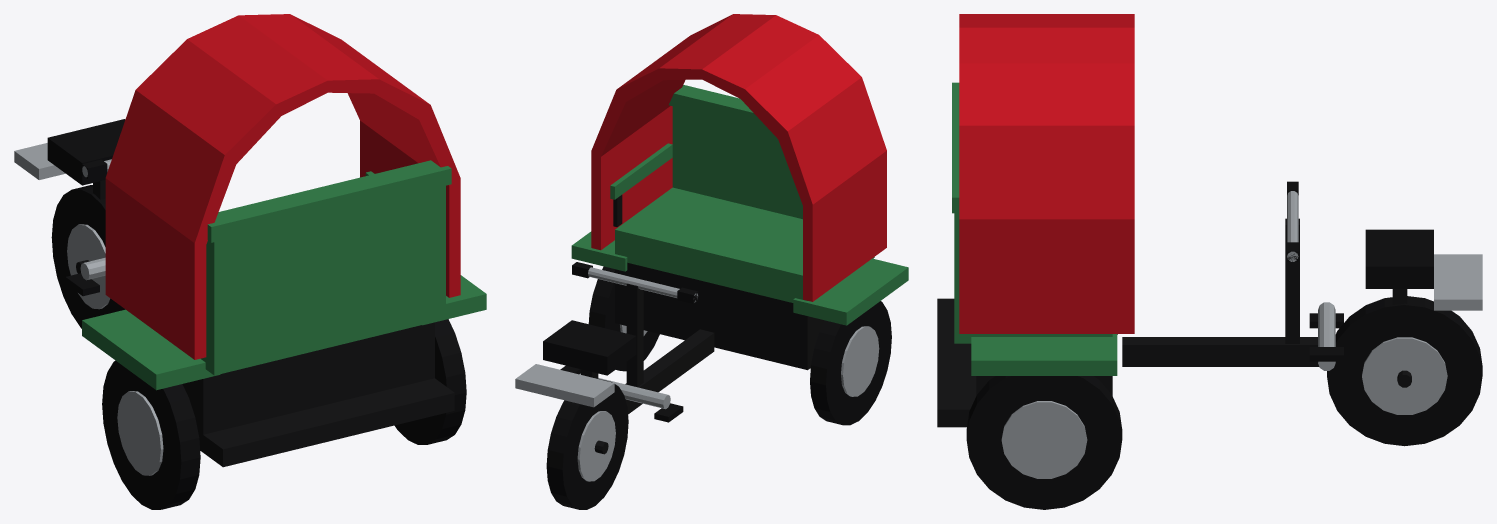
File: becak.glb
The picture shows the model from 3 angles, left to right: view 1: azimuth 30°, elevation 25°; view 2: azimuth 150°, elevation 25°; view 3: azimuth 270°, elevation 25°; orthographic projection. The views are drawn at different scales.
Parts seen in each view (by area): view 1: Canopy, BenchBack, BenchBase, Footrest, Wheel_FL, BenchBackTop, Fender_FL, Wheel_R, Wheel_FR, Wheel_FL_Hub, Saddle, Wheel_R_Hub (+2 smaller); view 2: Canopy, BenchSeat, BenchBase, BenchBack, Wheel_R, Wheel_FL, Fender_FL, Saddle, RearRack, FrameSpine, Wheel_FL_Hub, BenchBackTop (+7 smaller); view 3: Canopy, Wheel_R, Wheel_FR, Fender_FR, FrameSpine, Wheel_FR_Hub, Wheel_R_Hub, Saddle, Footrest, RearRack, SteerColumn, BenchBackTop (+3 smaller).
Part boxes in pixels (box(x1,y1,x2,y2)): Canopy: box(105, 14, 460, 359); BenchBack: box(203, 185, 445, 375); BenchBase: box(182, 322, 434, 443); Footrest: box(199, 378, 454, 467); Wheel_FL: box(102, 360, 200, 509); BenchBackTop: box(207, 160, 451, 242); Fender_FL: box(82, 309, 220, 390); Wheel_R: box(51, 185, 125, 328); Wheel_FR: box(394, 319, 466, 444); Wheel_FL_Hub: box(117, 391, 163, 475); Saddle: box(47, 119, 125, 185); Wheel_R_Hub: box(67, 224, 110, 309); Canopy: box(591, 14, 886, 301); BenchSeat: box(615, 187, 807, 302); BenchBase: box(615, 262, 824, 370); BenchBack: box(672, 106, 874, 258); Wheel_R: box(546, 379, 628, 509); Wheel_FL: box(810, 301, 891, 425); Fender_FL: box(793, 258, 908, 325); Saddle: box(543, 320, 636, 375); RearRack: box(515, 364, 614, 407); FrameSpine: box(625, 329, 714, 414); Wheel_FL_Hub: box(841, 326, 879, 396); BenchBackTop: box(669, 85, 768, 129); Canopy: box(959, 14, 1134, 333); Wheel_R: box(1327, 296, 1482, 446); Wheel_FR: box(966, 376, 1122, 509); Fender_FR: box(971, 334, 1117, 375); FrameSpine: box(1122, 337, 1319, 366); Wheel_FR_Hub: box(1001, 401, 1087, 478); Wheel_R_Hub: box(1362, 337, 1447, 414); Saddle: box(1365, 229, 1433, 288); Footrest: box(937, 298, 976, 427); RearRack: box(1434, 254, 1482, 310); SteerColumn: box(1285, 218, 1299, 343); BenchBackTop: box(952, 82, 959, 213).
Size of the model in its own units: 0.77 by 0.938 by 1.12.
